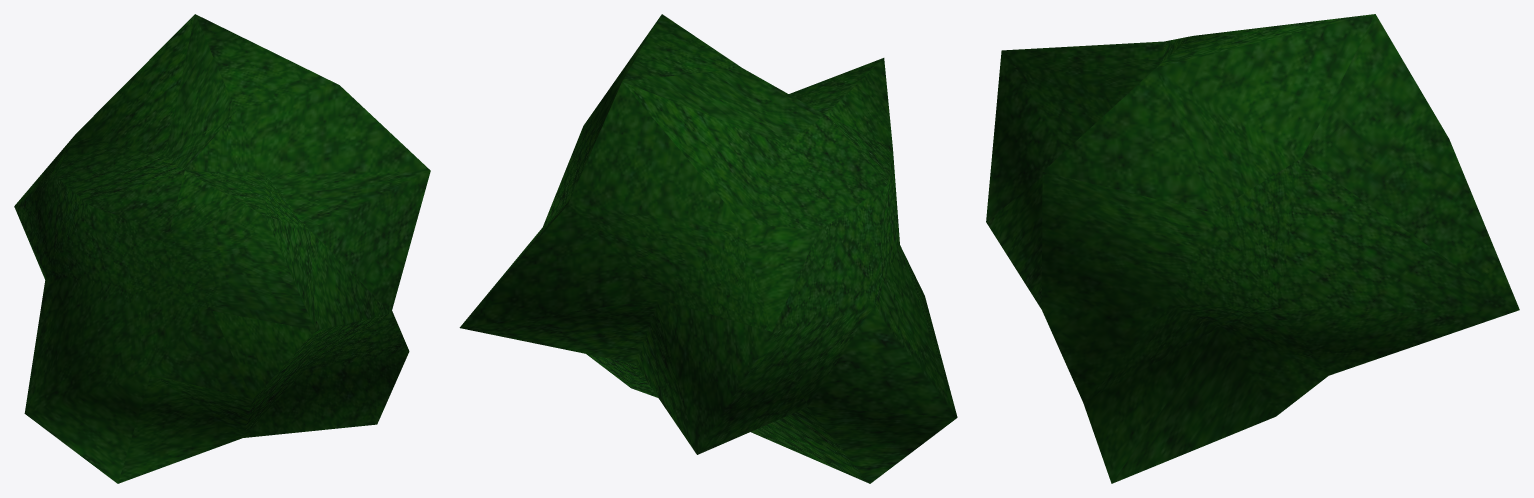
Rendered from tree_2_top.obj.
3 renders of one model, left to right at view 1: azimuth 30°, elevation 25°; view 2: azimuth 150°, elevation 25°; view 3: azimuth 270°, elevation 25°, orthographic. The views are drawn at different scales.
Parts seen in each view (by area): view 1: Icosphere; view 2: Icosphere; view 3: Icosphere.
Part boxes in pixels (left/top/right/bottom): Icosphere: left=14, top=14, right=430, bottom=483; Icosphere: left=459, top=14, right=957, bottom=483; Icosphere: left=986, top=14, right=1519, bottom=483.
Bounding box in the file's own units: 4.52 × 4.73 × 4.95.
